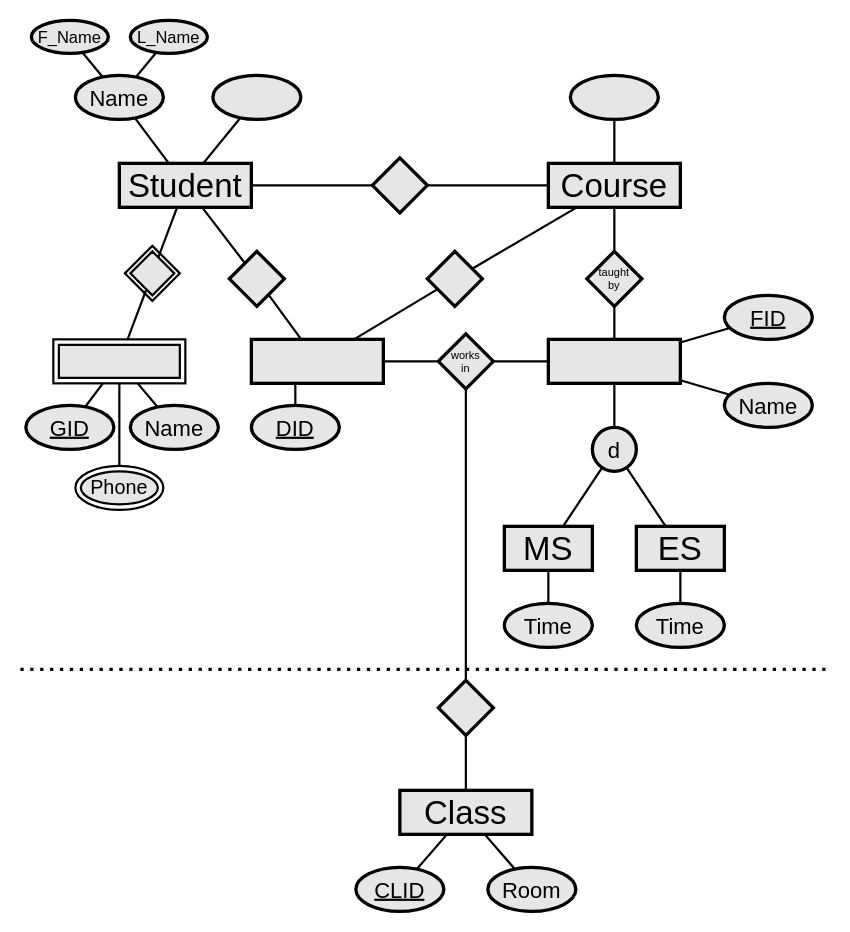
Some shapes in this 850 by 932 pixel diagram are drawn without their labels. The box of each missing label's shape, as (x1, y1, x2, y2) in pixels:
CID: (568, 73, 659, 120)
conducted by: (425, 249, 483, 307)
Department: (249, 337, 384, 384)
enrolled in: (227, 249, 285, 307)
Faculty: (546, 337, 681, 384)
Guardian: (57, 343, 180, 378)
has: (129, 250, 175, 296)
opt: (370, 156, 428, 214)
RNO: (211, 73, 302, 120)
teaches in: (436, 678, 494, 736)
